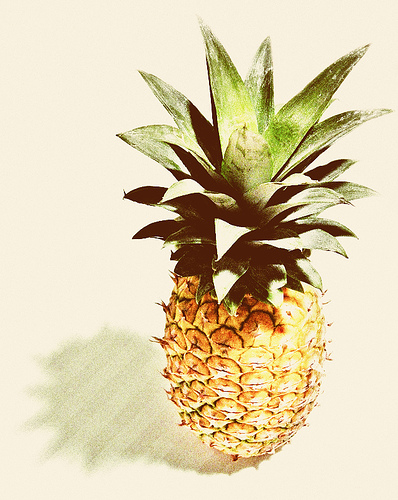pineapple: (112, 12, 395, 455)
